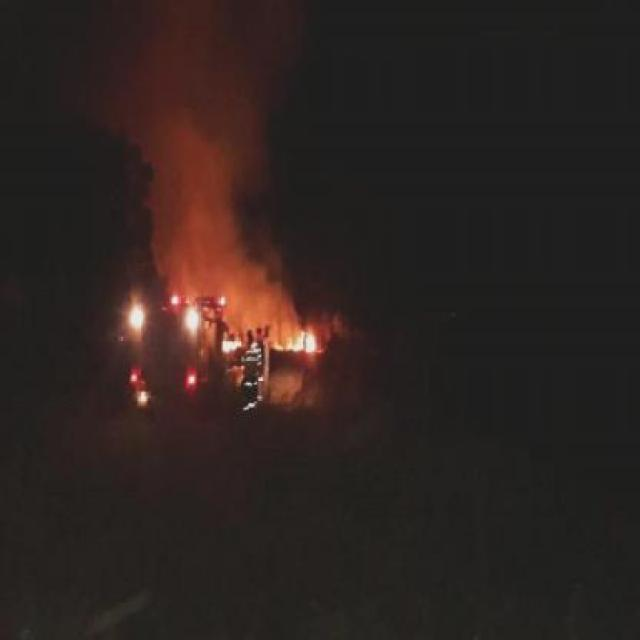Fire: (274, 328, 316, 352)
